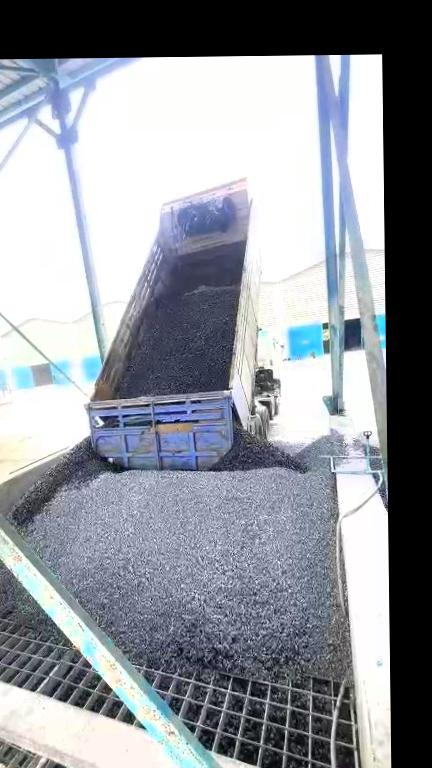gravel: (9, 408, 350, 681), (114, 271, 239, 398), (0, 546, 57, 634)
sand: (0, 429, 57, 487)
